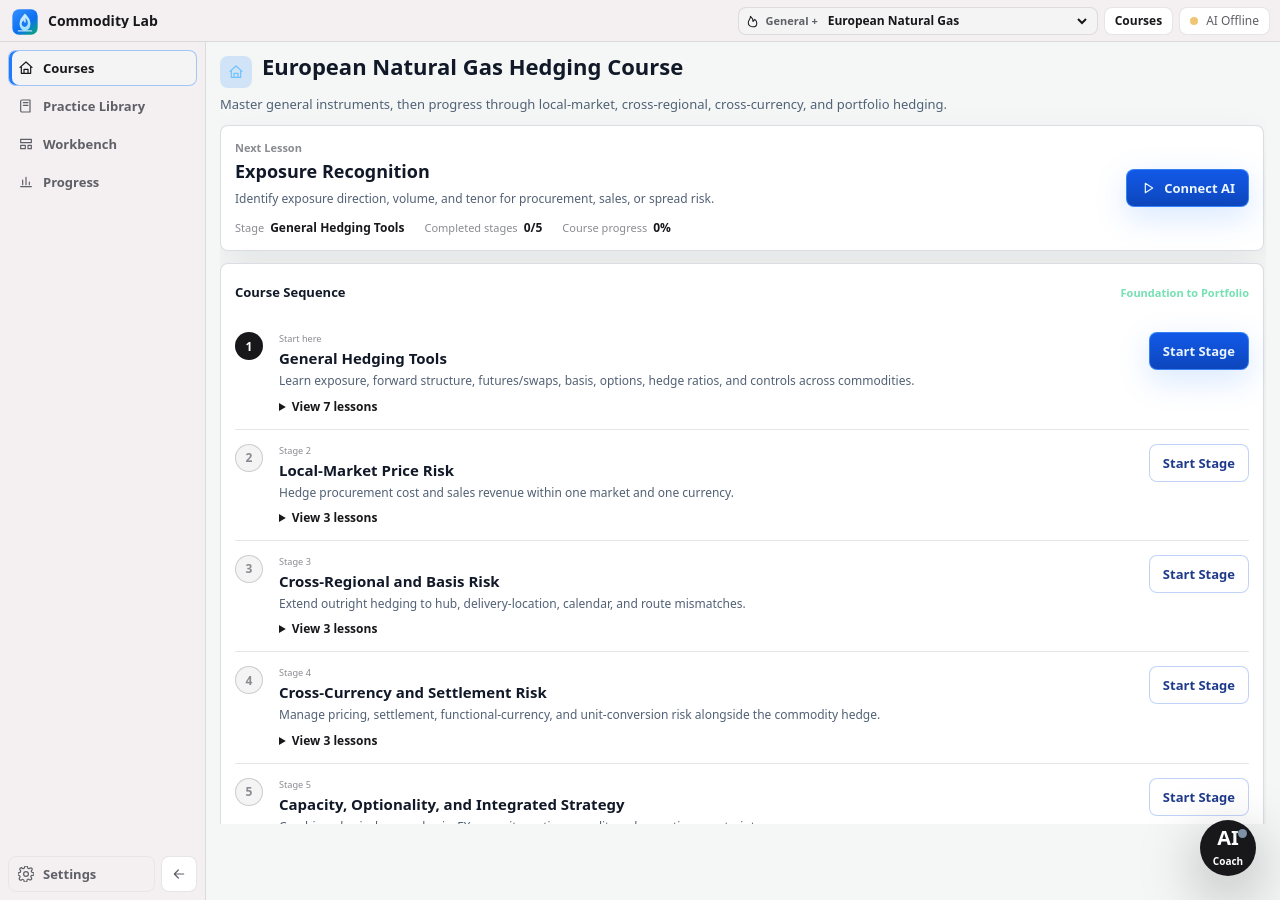
Commodity Lab shell › keeps product knowledge inside the ordered course instead of a duplicate map tab
Check: the text "Course Sequence" is shown, box top-left (235, 283), bottom-right (346, 301)
Check: the text "General Hedging Tools" is shown, box top-left (270, 219), bottom-right (404, 236)
Select "Crude Oil" in the dropdown named "Course product". click: (957,20)
box: top-left (824, 8), bottom-right (1090, 34)
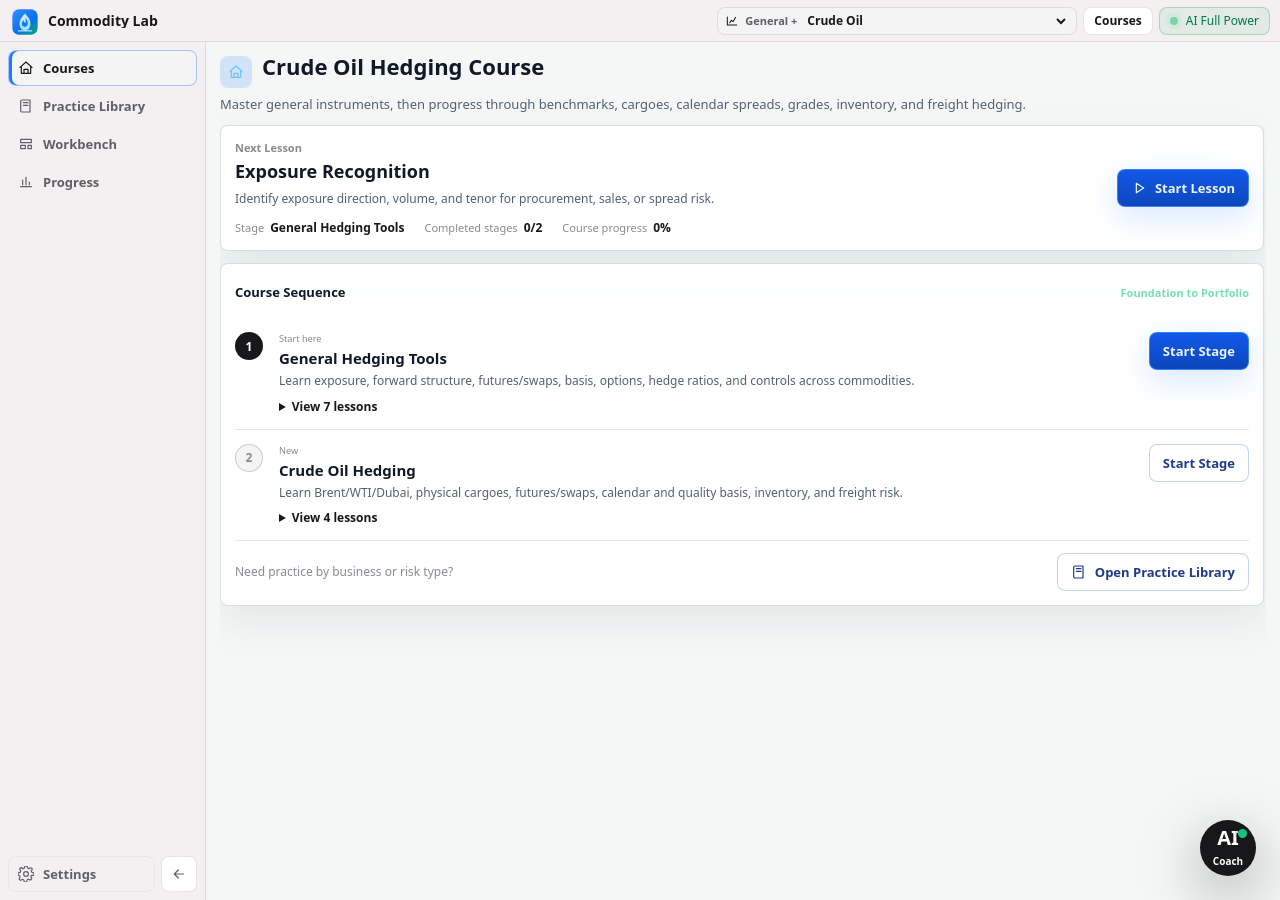
Check: the heading "Crude Oil Hedging Course" is shown, box top-left (262, 54), bottom-right (544, 81)
Check: the heading "Crude Oil Hedging" is shown, box top-left (279, 460), bottom-right (416, 480)
Check: the heading "Local-Market Price Risk" is gone
